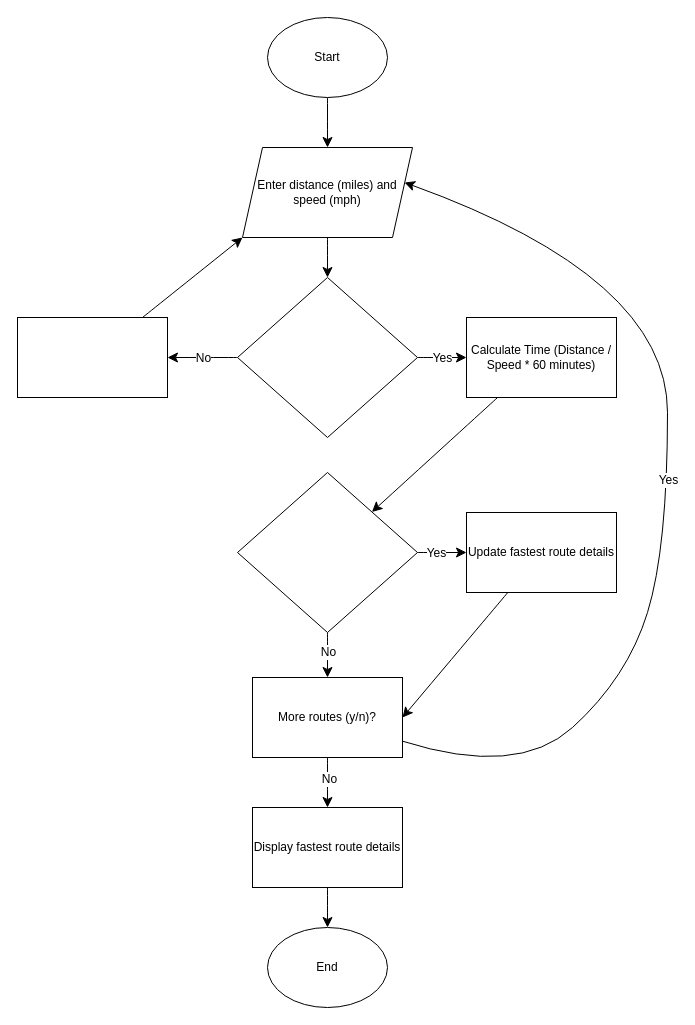
The diagram is 695 pixels wide and 1025 high, and some of its shapes have lost their labels. The centre of each missing label's shape, as x and y in pixels:
"Distance > 0 and speed > 0?" belongs at point 327,357.
"Invalid input. Try again" belongs at point 92,357.
"Is this the fastest route?" belongs at point 327,552.
